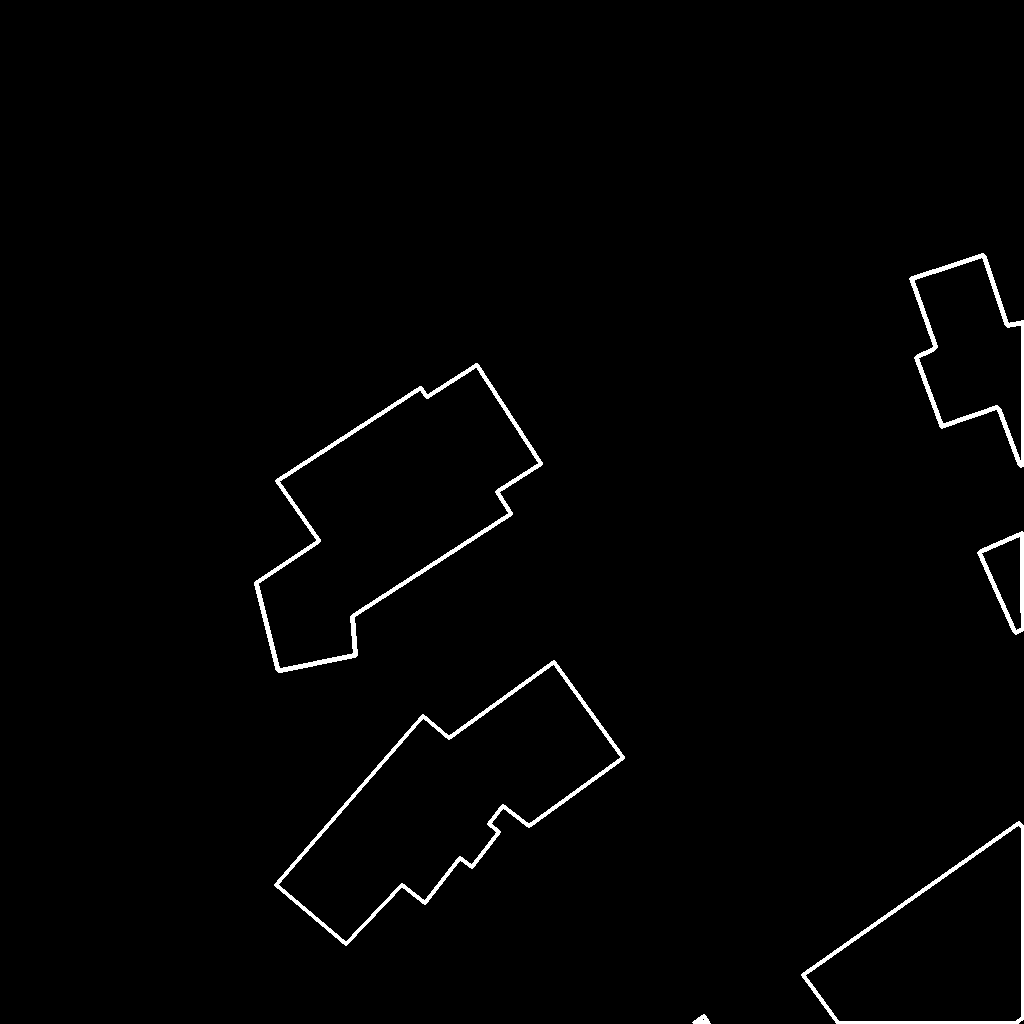building: (276, 662, 624, 945), (256, 365, 542, 672), (803, 823, 1024, 1024), (911, 255, 1024, 467), (979, 533, 1024, 634), (694, 1016, 710, 1024)
